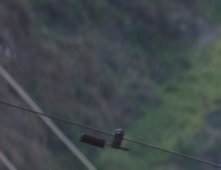damper_defect: (78, 127, 135, 153)
